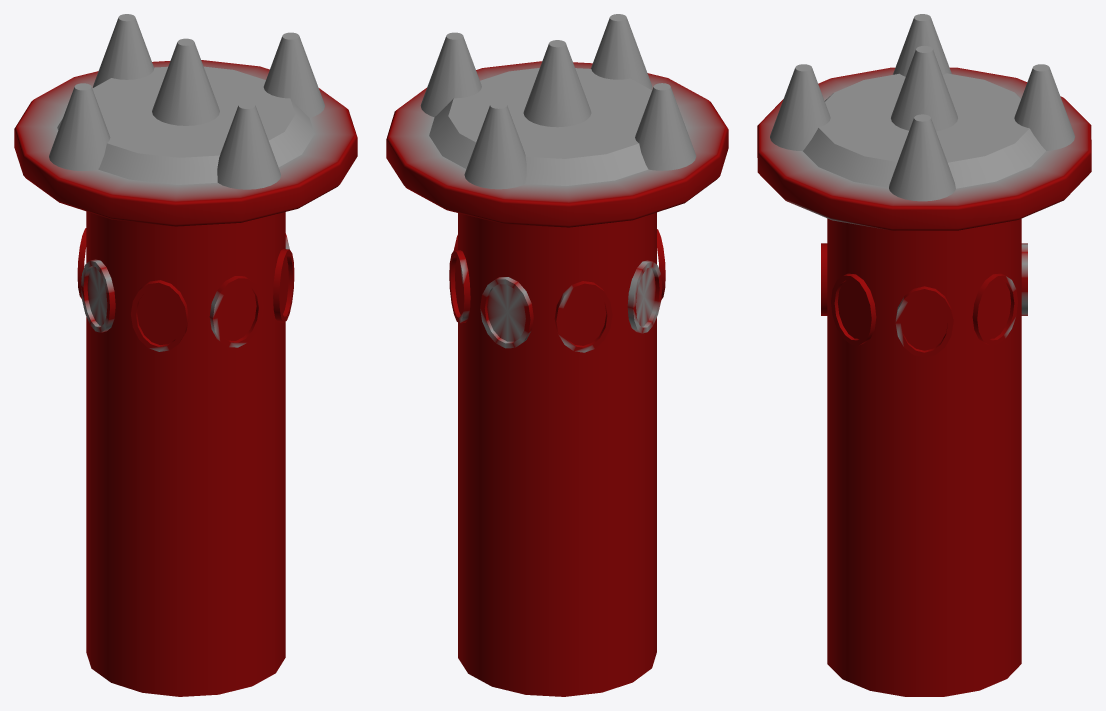
File: MoonBaboon_MainLaser_01.gltf
3 renders of one model, left to right at view 1: azimuth 30°, elevation 25°; view 2: azimuth 150°, elevation 25°; view 3: azimuth 270°, elevation 25°, orthographic.
Parts seen in each view (by area): view 1: MoonBaboon_MainLaser_01; view 2: MoonBaboon_MainLaser_01; view 3: MoonBaboon_MainLaser_01.
Part boxes in pixels (bbox=[...]): MoonBaboon_MainLaser_01: bbox=[14, 14, 357, 696]; MoonBaboon_MainLaser_01: bbox=[386, 14, 728, 696]; MoonBaboon_MainLaser_01: bbox=[757, 14, 1091, 696].
Size of the model in its own units: 3.38 by 6.76 by 3.38.
